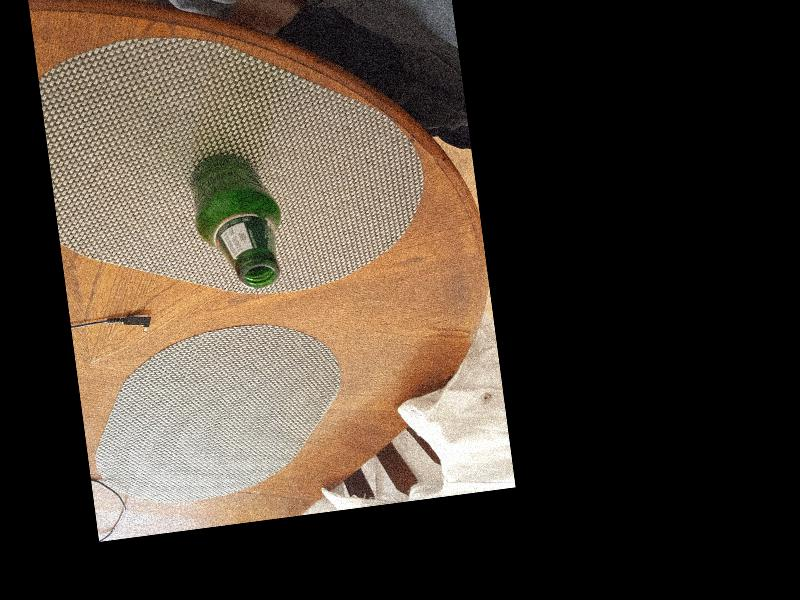Beer: (188, 146, 290, 293)
